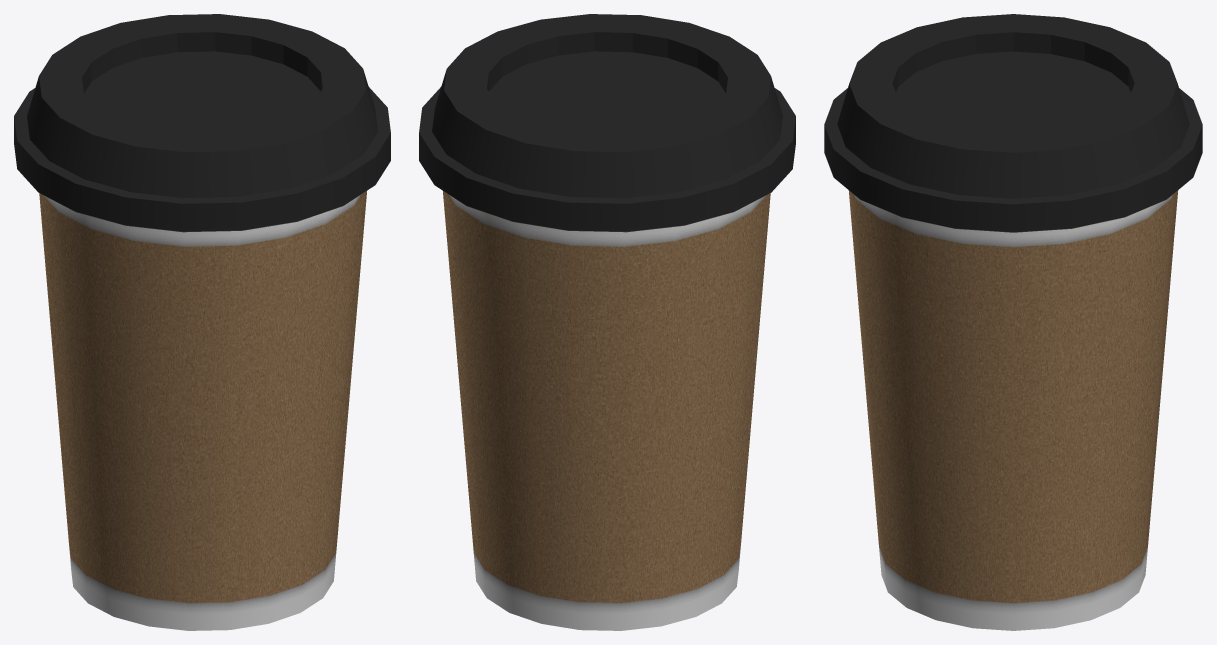
File: Coffee cup.fbx
3 renders of one model, left to right at view 1: azimuth 30°, elevation 25°; view 2: azimuth 150°, elevation 25°; view 3: azimuth 270°, elevation 25°, orthographic.
Visible parts, largest first — view 1: Coffee Cup; view 2: Coffee Cup; view 3: Coffee Cup.
Part boxes in pixels (x1,y1,x2,y2): Coffee Cup: (14, 14, 390, 630); Coffee Cup: (419, 14, 795, 630); Coffee Cup: (824, 14, 1202, 630).
Size of the model in its own units: 8.56 by 12.28 by 8.56.
1 material, 1 textured.
